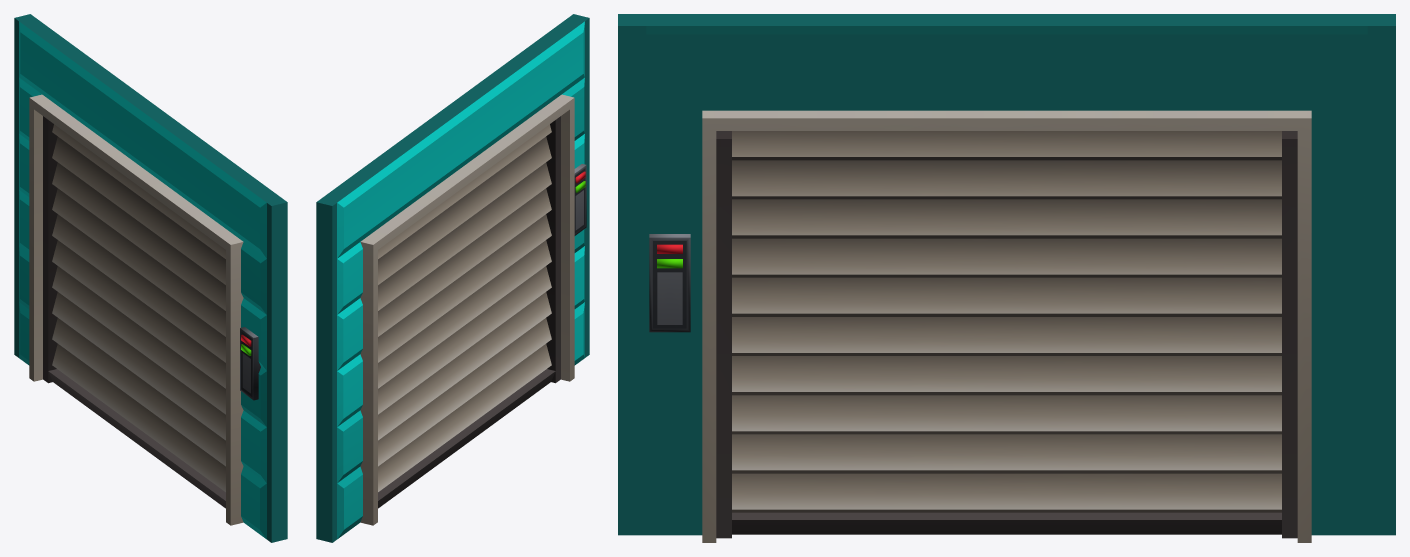
The model's file is TSP_House_Wall_Short_08B.fbx.
3 renders of one model, left to right at view 1: azimuth 30°, elevation 25°; view 2: azimuth 150°, elevation 25°; view 3: azimuth 270°, elevation 25°, orthographic. The views are drawn at different scales.
Parts seen in each view (by area): view 1: TSP_House_Wall_Short_08B_Door, TSP_House_Wall_Short_08B, TSP_House_Wall_Short_08B.001; view 2: TSP_House_Wall_Short_08B_Door, TSP_House_Wall_Short_08B, TSP_House_Wall_Short_08B.001; view 3: TSP_House_Wall_Short_08B_Door, TSP_House_Wall_Short_08B, TSP_House_Wall_Short_08B.001.
Part boxes in pixels (<box>): TSP_House_Wall_Short_08B_Door: <box>43,116,225,508</box>; TSP_House_Wall_Short_08B: <box>14,14,287,542</box>; TSP_House_Wall_Short_08B.001: <box>29,94,260,525</box>; TSP_House_Wall_Short_08B_Door: <box>378,116,560,508</box>; TSP_House_Wall_Short_08B: <box>316,14,589,542</box>; TSP_House_Wall_Short_08B.001: <box>360,94,586,525</box>; TSP_House_Wall_Short_08B_Door: <box>716,131,1297,538</box>; TSP_House_Wall_Short_08B: <box>618,14,1395,535</box>; TSP_House_Wall_Short_08B.001: <box>649,110,1311,542</box>.
Size of the model in its own units: 36.5 by 300 by 415.
